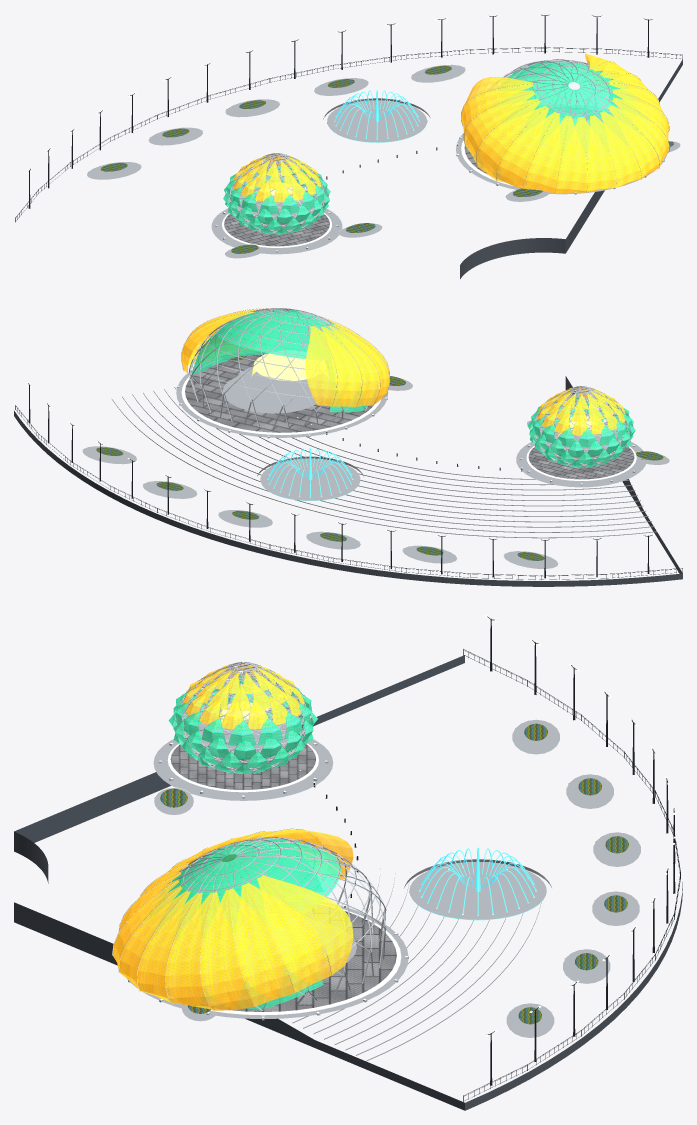
Rendered from ultra_lm_01_quang_truong_lam_vien.glb.
The picture shows the model from 3 angles, top to bottom: view 1: azimuth 30°, elevation 25°; view 2: azimuth 150°, elevation 25°; view 3: azimuth 270°, elevation 25°; orthographic projection. The views are drawn at different scales.
Parts seen in each view (by area): view 1: Gold_Sunflower_Petals_1024PBR, Amphitheater_Steps_And_Planter_Curbs, Jade_StainedGlass_Shells_1024PBR, Helical_Steel_Diagrid_SpaceFrames, Lakeside_WroughtIron_Balustrades, Foundation_Skirt_Minus3m, DewWet_Radial_Granite_Plaza_1024PBR, Sculpted_Floral_Parterres_1024PBR, Musical_Fountain_Water_Jets_Blend085, Night_Architectural_Floodlights; view 2: Amphitheater_Steps_And_Planter_Curbs, Gold_Sunflower_Petals_1024PBR, Jade_StainedGlass_Shells_1024PBR, DewWet_Radial_Granite_Plaza_1024PBR, Helical_Steel_Diagrid_SpaceFrames, Foundation_Skirt_Minus3m, Lakeside_WroughtIron_Balustrades, Night_Architectural_Floodlights, Sculpted_Floral_Parterres_1024PBR, Atiso_Cafe_And_Stage_Warm_Core, Musical_Fountain_Water_Jets_Blend085; view 3: Gold_Sunflower_Petals_1024PBR, Amphitheater_Steps_And_Planter_Curbs, Jade_StainedGlass_Shells_1024PBR, Foundation_Skirt_Minus3m, Helical_Steel_Diagrid_SpaceFrames, DewWet_Radial_Granite_Plaza_1024PBR, Lakeside_WroughtIron_Balustrades, Night_Architectural_Floodlights, Sculpted_Floral_Parterres_1024PBR, Musical_Fountain_Water_Jets_Blend085.
Boxes of the visible parts, box(x1,y1,x2,y2) form: Gold_Sunflower_Petals_1024PBR: box(233, 53, 668, 202); Amphitheater_Steps_And_Planter_Curbs: box(87, 60, 680, 258); Jade_StainedGlass_Shells_1024PBR: box(223, 61, 621, 234); Helical_Steel_Diagrid_SpaceFrames: box(215, 59, 669, 252); Lakeside_WroughtIron_Balustrades: box(15, 14, 682, 222); Foundation_Skirt_Minus3m: box(460, 59, 682, 278); DewWet_Radial_Granite_Plaza_1024PBR: box(224, 107, 600, 246); Sculpted_Floral_Parterres_1024PBR: box(100, 61, 673, 253); Musical_Fountain_Water_Jets_Blend085: box(330, 90, 424, 142); Night_Architectural_Floodlights: box(27, 14, 680, 252); Amphitheater_Steps_And_Planter_Curbs: box(82, 365, 669, 568); Gold_Sunflower_Petals_1024PBR: box(182, 308, 625, 435); Jade_StainedGlass_Shells_1024PBR: box(191, 309, 635, 467); DewWet_Radial_Granite_Plaza_1024PBR: box(185, 353, 634, 479); Helical_Steel_Diagrid_SpaceFrames: box(176, 308, 643, 485); Foundation_Skirt_Minus3m: box(14, 376, 682, 586); Lakeside_WroughtIron_Balustrades: box(15, 383, 682, 579); Night_Architectural_Floodlights: box(27, 308, 668, 555); Sculpted_Floral_Parterres_1024PBR: box(96, 355, 664, 560); Atiso_Cafe_And_Stage_Warm_Core: box(251, 351, 614, 451); Musical_Fountain_Water_Jets_Blend085: box(264, 448, 356, 500); Gold_Sunflower_Petals_1024PBR: box(112, 663, 353, 1010); Amphitheater_Steps_And_Planter_Curbs: box(127, 716, 640, 1061); Jade_StainedGlass_Shells_1024PBR: box(168, 675, 340, 1009); Foundation_Skirt_Minus3m: box(14, 655, 682, 1110); Helical_Steel_Diagrid_SpaceFrames: box(112, 661, 408, 1020); DewWet_Radial_Granite_Plaza_1024PBR: box(170, 744, 396, 1011); Lakeside_WroughtIron_Balustrades: box(313, 616, 680, 1101); Night_Architectural_Floodlights: box(112, 615, 675, 1036); Sculpted_Floral_Parterres_1024PBR: box(160, 723, 628, 1024); Musical_Fountain_Water_Jets_Blend085: box(413, 847, 542, 920).
Size of the model in its own units: 160 by 21.61 by 101.
Materials: 11 (4 with a texture image).
